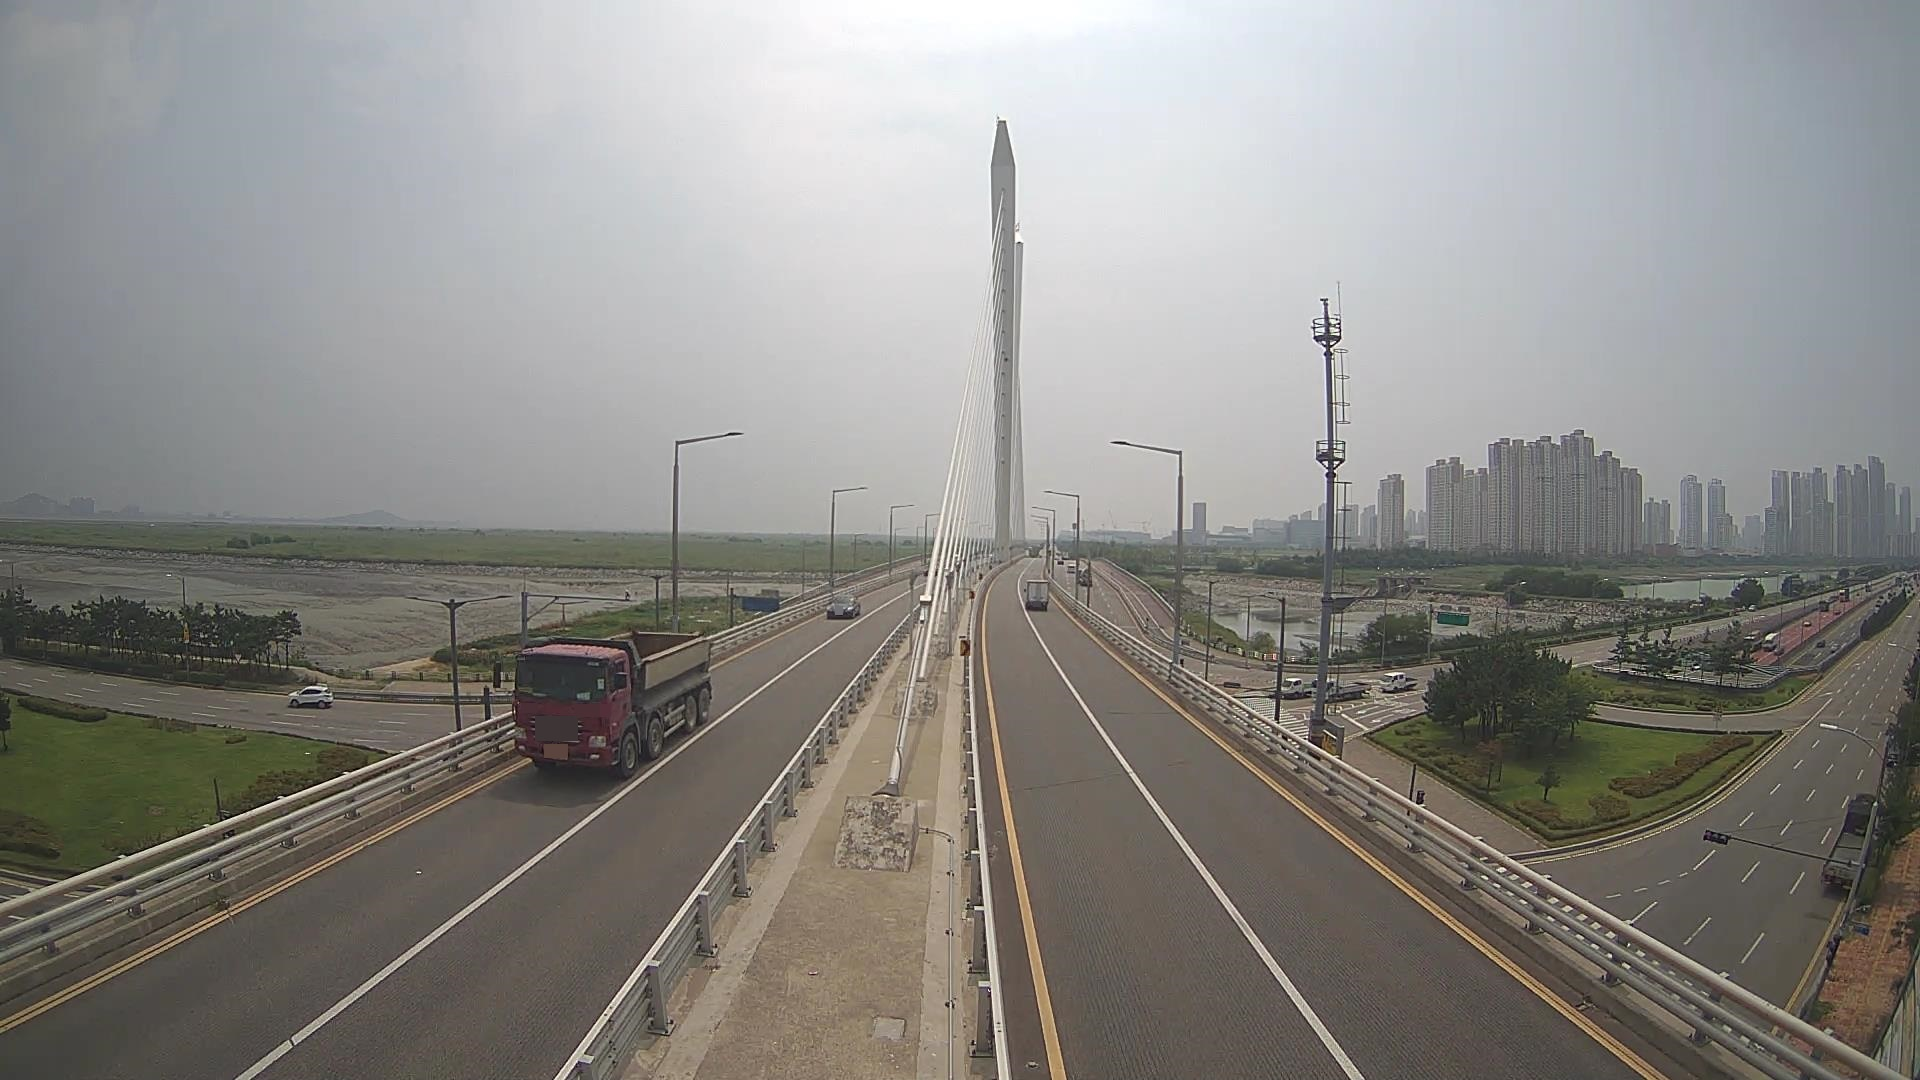정상차량: (493, 630, 713, 777)
